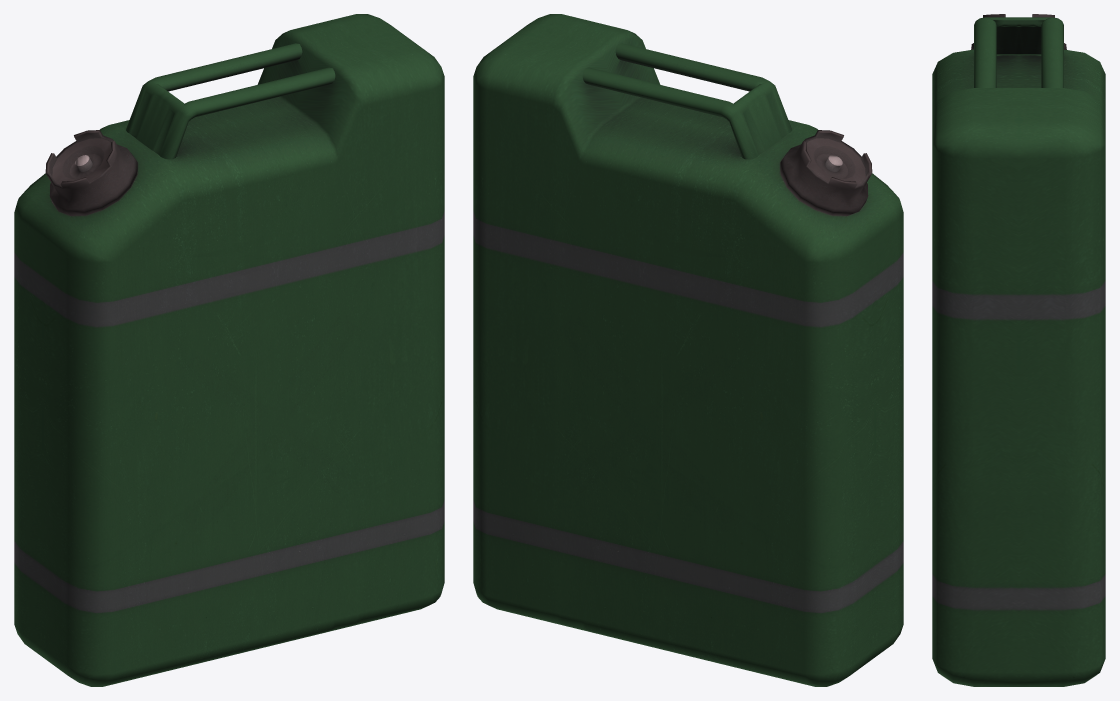
Rendered from gas_tank_small.fbx.
The picture shows the model from 3 angles, left to right: view 1: azimuth 30°, elevation 25°; view 2: azimuth 150°, elevation 25°; view 3: azimuth 270°, elevation 25°; orthographic projection.
Visible parts, largest first — view 1: Mesh; view 2: Mesh; view 3: Mesh.
Boxes of the visible parts, x1=… form: Mesh: x1=14, y1=14, x2=444, y2=686; Mesh: x1=473, y1=14, x2=903, y2=686; Mesh: x1=932, y1=14, x2=1105, y2=686.
Bounding box in the file's own units: 143 × 204 × 56.8.
1 material, 1 textured.
